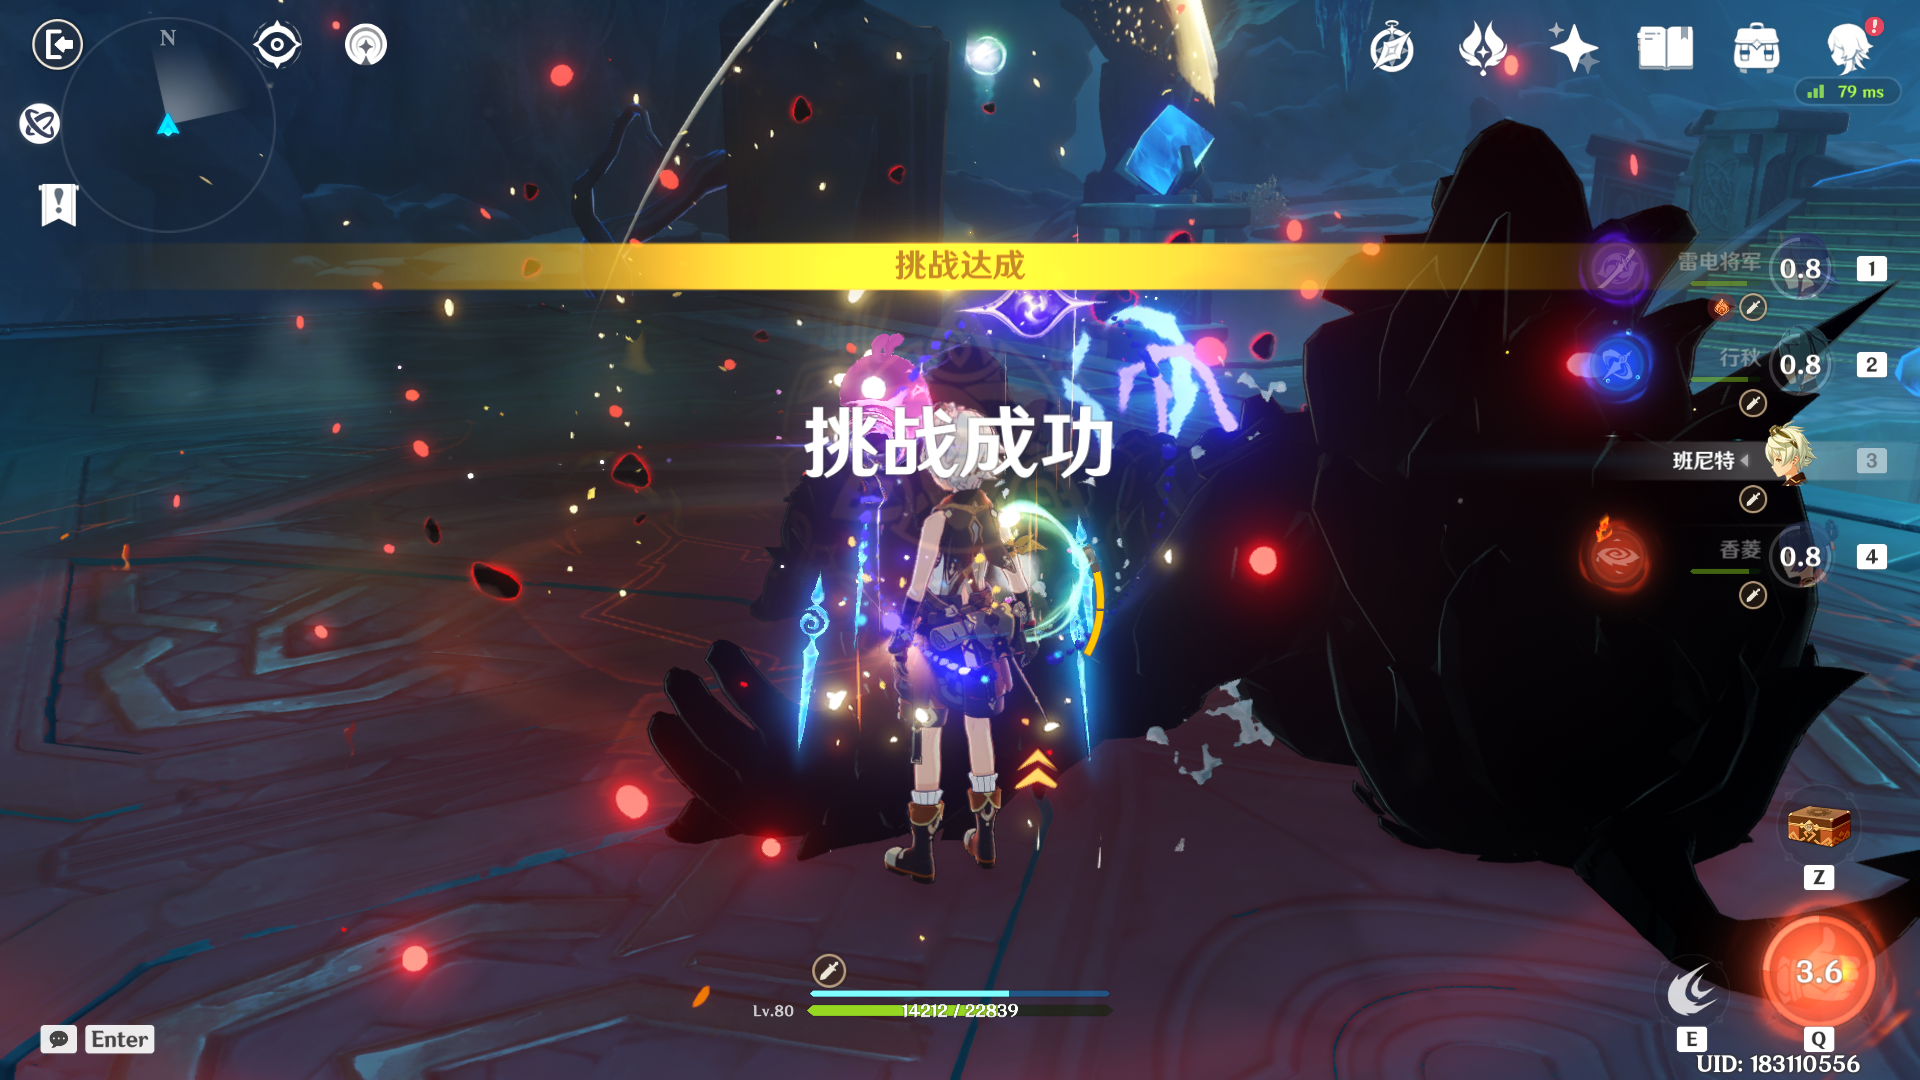character: (811, 367, 1122, 942)
